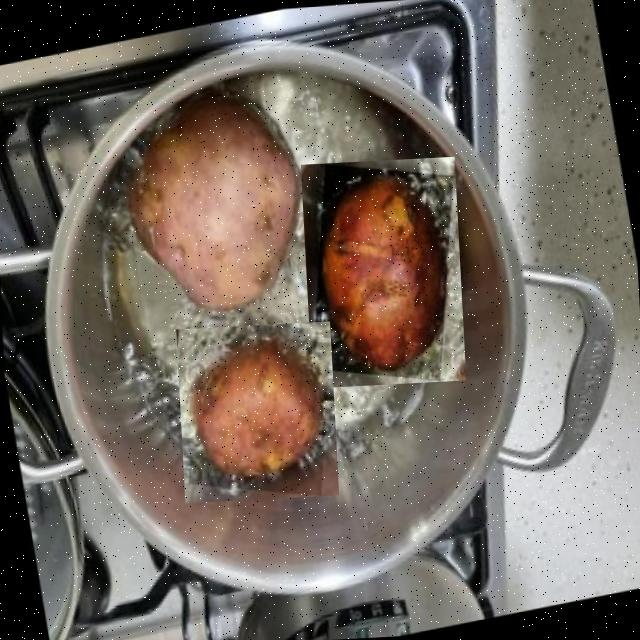Potato: (108, 81, 324, 338), (300, 156, 467, 388), (176, 322, 339, 504)
